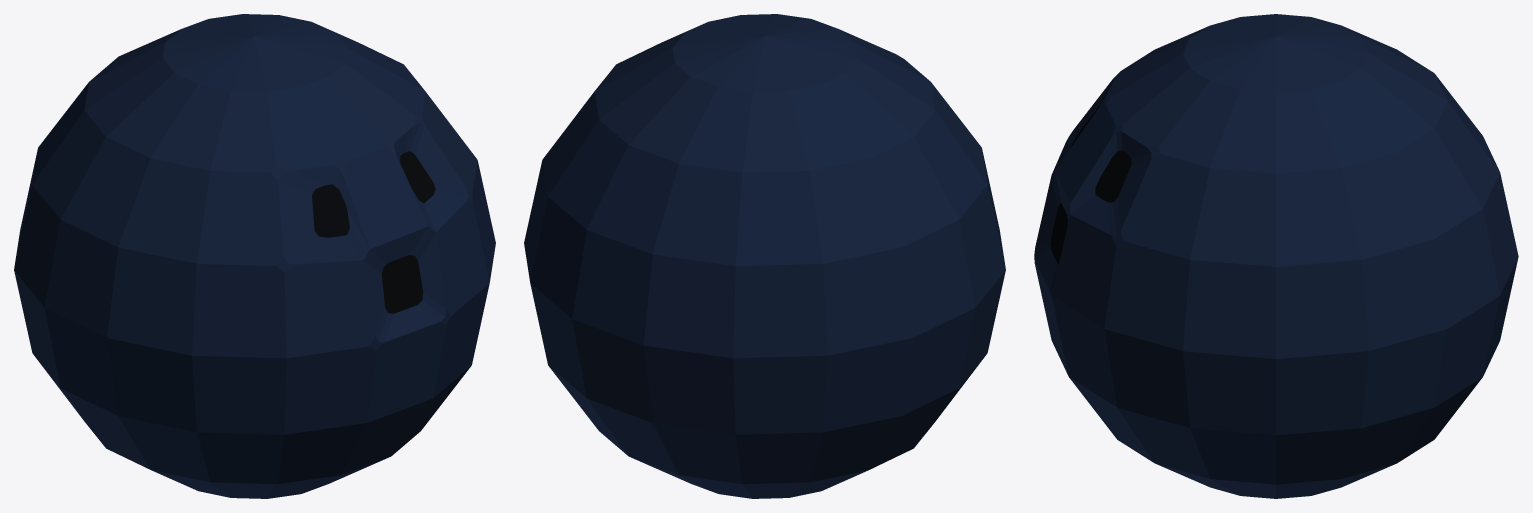
Rendered from bowlingBall.fbx.
The picture shows the model from 3 angles, left to right: view 1: azimuth 30°, elevation 25°; view 2: azimuth 150°, elevation 25°; view 3: azimuth 270°, elevation 25°; orthographic projection.
Visible parts, largest first — view 1: BowlingBall; view 2: BowlingBall; view 3: BowlingBall.
Part boxes in pixels (x1,y1,x2,y2): BowlingBall: (14,14,495,498); BowlingBall: (524,14,1005,498); BowlingBall: (1034,14,1518,498).
Bounding box in the file's own units: 425 × 425 × 424.
